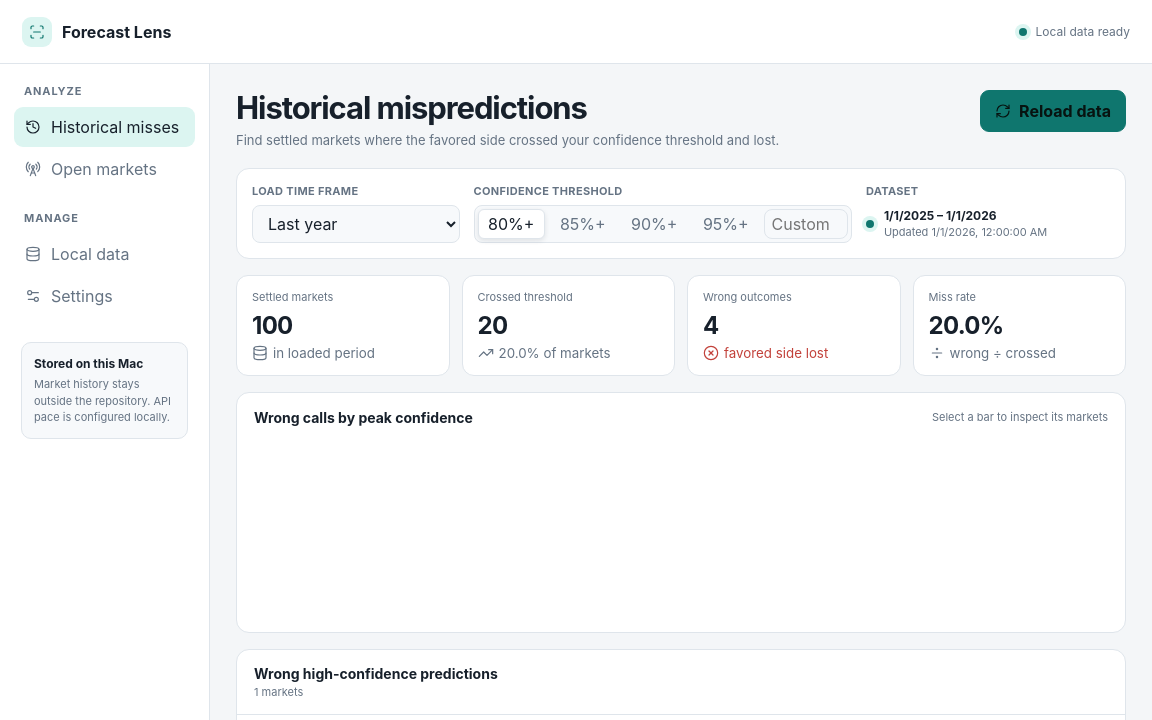
it: historical dashboard › opens the local data screen with cache details
Click the button "Local data" at point(104, 254), box x1=14 y1=234 x2=195 y2=274
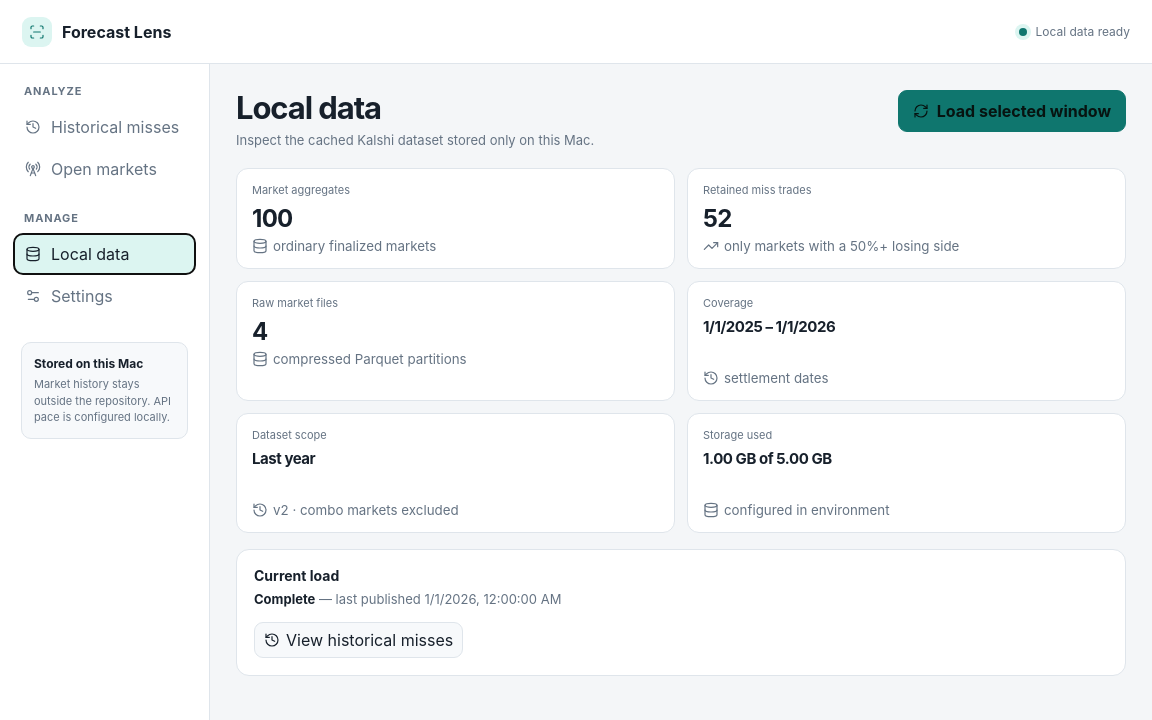
Expected: the heading "Local data" is shown, x1=236 y1=89 x2=381 y2=126
Expected: the text "Market aggregates" is shown, x1=252 y1=183 x2=350 y2=197
Expected: the text "Retained miss trades" is shown, x1=703 y1=183 x2=812 y2=197
